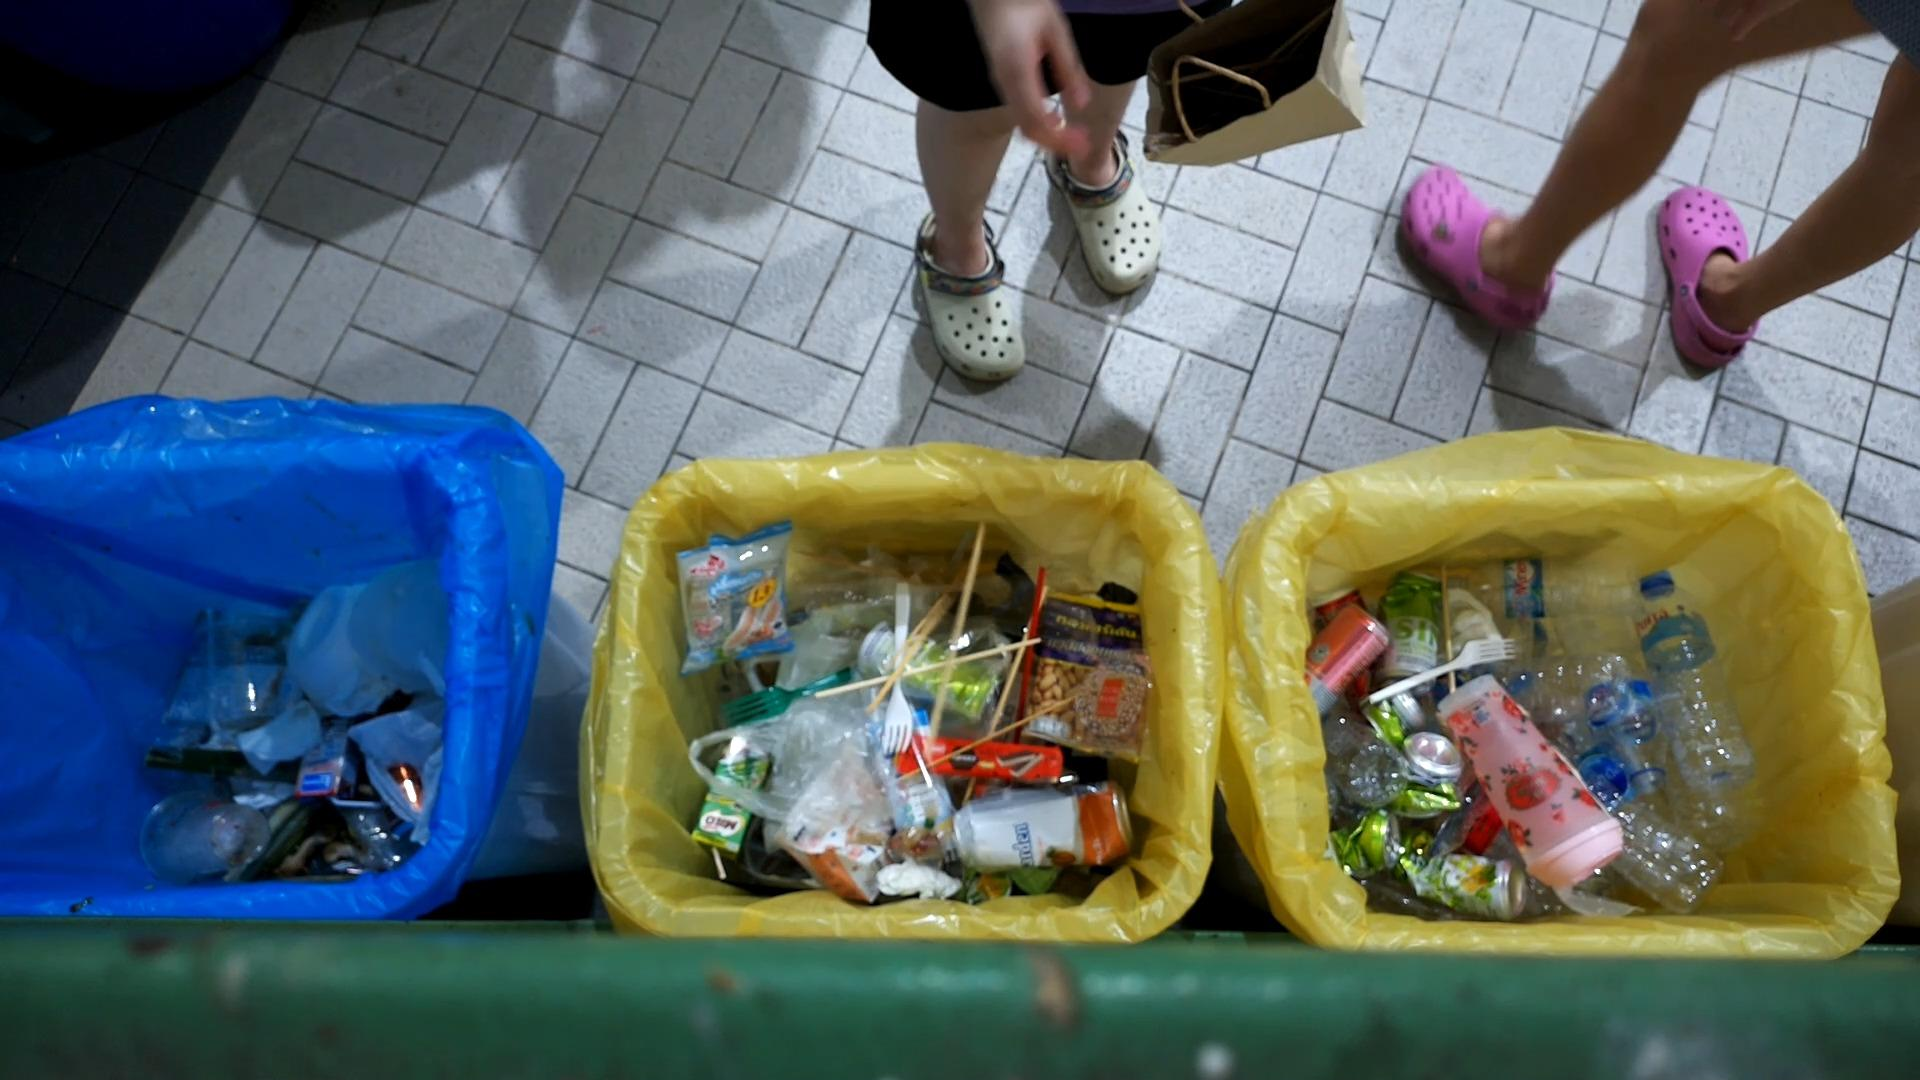can: (949, 778, 1137, 880), (1390, 831, 1535, 927), (1307, 596, 1383, 716), (1381, 567, 1447, 686), (1395, 732, 1466, 828), (1329, 815, 1404, 885)
food container: (281, 578, 378, 709)
milk carton: (866, 709, 957, 844), (684, 733, 773, 856), (287, 712, 363, 806)
paper bag: (1137, 0, 1371, 170)
plastic bag: (767, 694, 889, 843)
plastic bottle: (1627, 564, 1758, 802), (1573, 637, 1669, 795), (1460, 553, 1650, 618), (1613, 802, 1724, 914), (1319, 712, 1410, 812)
plastic cup: (1436, 674, 1627, 894), (138, 790, 274, 886)
plastic cutlery: (1366, 633, 1518, 704), (720, 663, 858, 731), (878, 579, 918, 756)
snack packaging: (1023, 591, 1147, 764), (674, 516, 799, 680), (890, 721, 1063, 789), (804, 847, 870, 907)
sticks: (894, 679, 1093, 786), (918, 518, 990, 764), (812, 633, 1044, 705), (862, 587, 953, 715), (982, 582, 1051, 742)
straw: (1018, 550, 1055, 715)
tissue paper: (233, 700, 327, 773), (1437, 593, 1506, 655), (876, 860, 963, 901), (232, 778, 297, 812)
